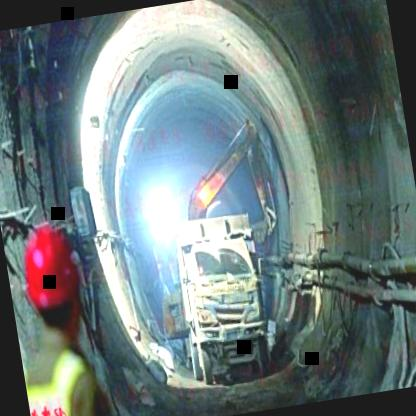helmet: (8, 210, 92, 340)
